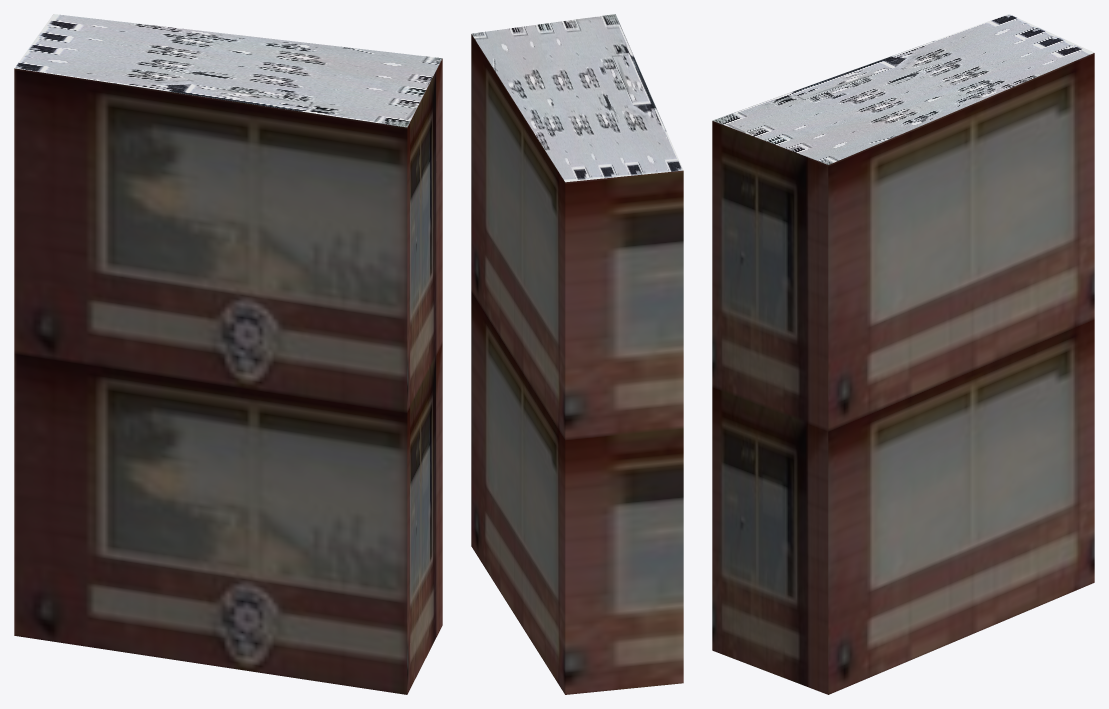
The model's file is ResTex__1474.fbx.
3 renders of one model, left to right at view 1: azimuth 30°, elevation 25°; view 2: azimuth 150°, elevation 25°; view 3: azimuth 270°, elevation 25°, orthographic. The views are drawn at different scales.
Visible parts, largest first — view 1: CityEngineMaterial_13_m, CityEngineMaterial_2_m; view 2: CityEngineMaterial_13_m, CityEngineMaterial_2_m; view 3: CityEngineMaterial_13_m, CityEngineMaterial_2_m.
Boxes of the visible parts, <box> form: CityEngineMaterial_13_m: <box>14,58,442,694</box>; CityEngineMaterial_2_m: <box>15,14,442,127</box>; CityEngineMaterial_13_m: <box>471,34,683,694</box>; CityEngineMaterial_2_m: <box>471,14,683,182</box>; CityEngineMaterial_13_m: <box>712,53,1094,694</box>; CityEngineMaterial_2_m: <box>712,14,1094,164</box>.
Bounding box in the file's own units: 3.67 × 6 × 3.93.
2 materials, 2 textured.
